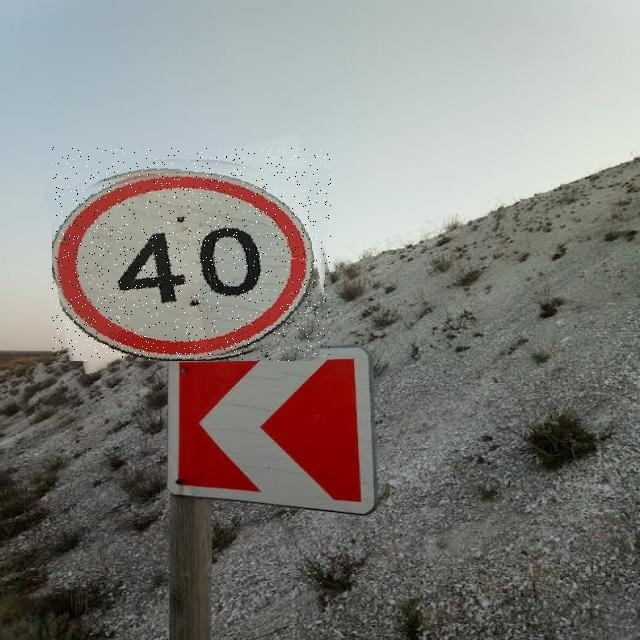speed limit 40: (52, 147, 331, 361)
